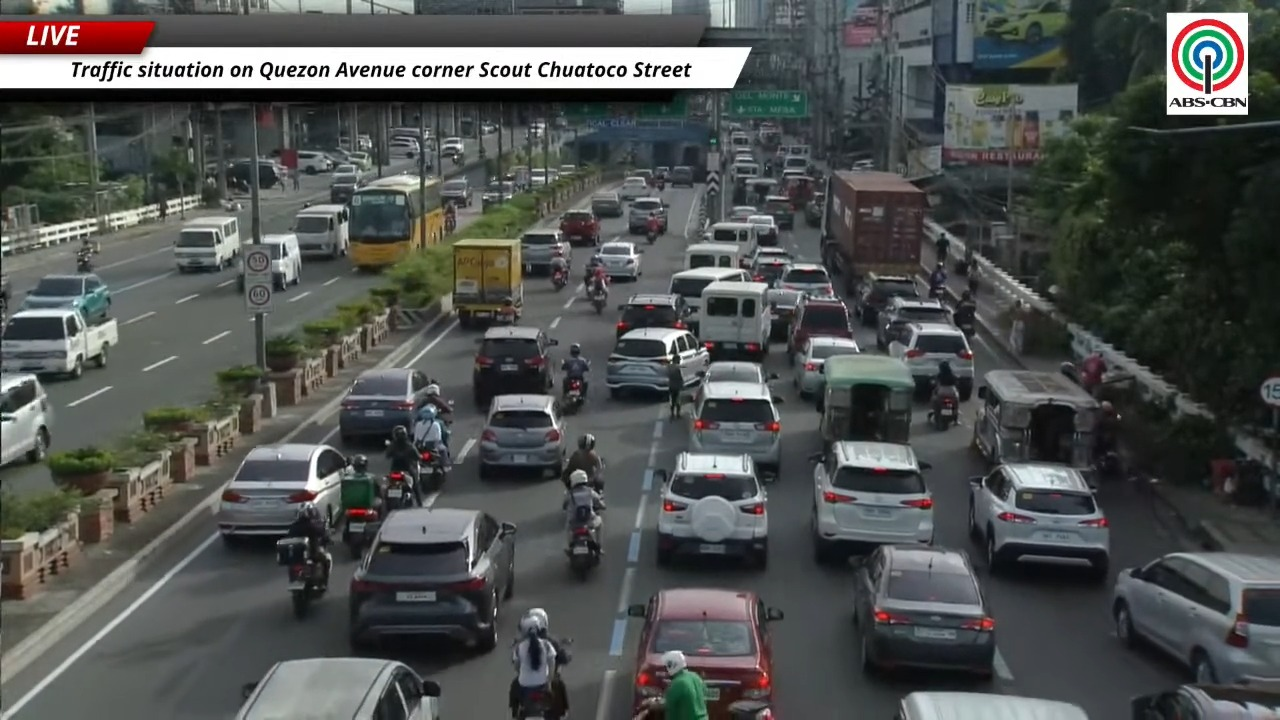bus: (349, 174, 444, 270)
car: (348, 508, 516, 651), (1111, 552, 1279, 684), (627, 589, 783, 717), (853, 544, 995, 677), (968, 463, 1109, 579), (811, 442, 933, 561), (215, 443, 348, 545), (655, 452, 767, 568), (234, 657, 440, 719), (690, 382, 782, 473), (477, 394, 568, 478), (606, 327, 709, 398), (338, 368, 430, 445), (887, 322, 975, 401), (472, 327, 557, 406), (1131, 682, 1279, 719), (0, 373, 53, 464), (19, 273, 111, 323), (787, 293, 853, 360), (793, 336, 860, 398), (982, 0, 1068, 45), (877, 297, 951, 349), (852, 273, 919, 326), (695, 360, 777, 401), (616, 293, 685, 337), (261, 232, 301, 291), (520, 228, 572, 273), (777, 262, 832, 296), (595, 241, 642, 280), (768, 289, 803, 341), (628, 197, 667, 234), (560, 209, 600, 245), (748, 255, 789, 288), (745, 214, 779, 246), (762, 195, 794, 229), (744, 245, 794, 266), (481, 181, 516, 208), (440, 177, 472, 206), (330, 173, 359, 203), (296, 150, 332, 174), (590, 192, 624, 217), (617, 175, 650, 200), (804, 192, 824, 227), (388, 138, 421, 158), (668, 166, 694, 187), (781, 154, 809, 173), (440, 137, 465, 158), (726, 206, 757, 221), (348, 151, 371, 171), (529, 168, 553, 186), (630, 169, 654, 185), (332, 162, 360, 174), (733, 151, 755, 163), (557, 164, 578, 176), (653, 166, 670, 180), (480, 121, 498, 134)
motorcycle: (277, 537, 328, 618), (341, 508, 379, 559), (565, 526, 600, 579), (516, 688, 552, 720), (420, 450, 447, 491), (385, 471, 414, 509), (930, 392, 957, 430), (1094, 448, 1123, 482), (564, 379, 583, 413), (955, 314, 975, 338), (551, 269, 569, 292), (76, 250, 92, 273), (591, 292, 606, 314), (928, 283, 944, 300), (646, 230, 657, 244), (655, 178, 664, 191), (452, 154, 462, 165)
truck: (820, 171, 927, 294), (0, 309, 118, 377), (452, 239, 523, 327)
